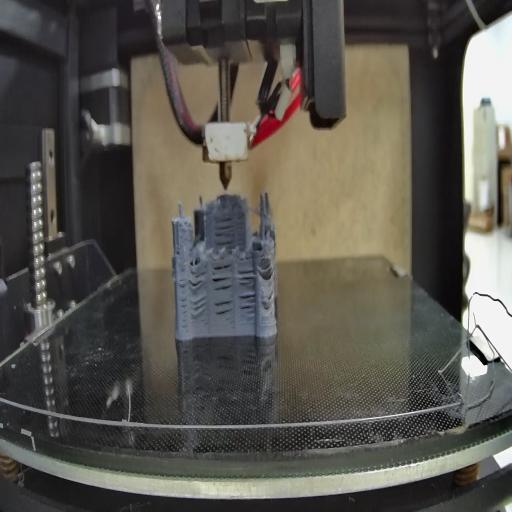cracks: (212, 212, 236, 250), (178, 274, 189, 333), (213, 260, 233, 292), (189, 262, 207, 292), (238, 290, 254, 319), (238, 264, 255, 289), (215, 299, 234, 319), (190, 295, 208, 316), (262, 288, 274, 310), (262, 262, 274, 280), (176, 244, 182, 256)
